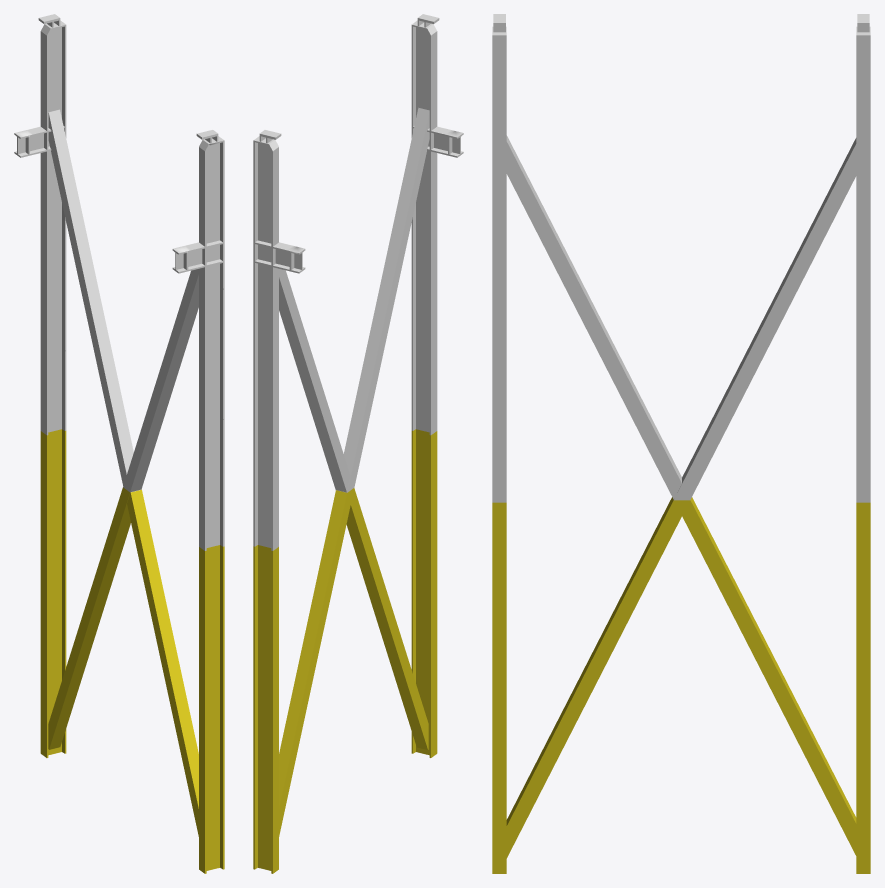
The model's file is truss.fbx.
The picture shows the model from 3 angles, left to right: view 1: azimuth 30°, elevation 25°; view 2: azimuth 150°, elevation 25°; view 3: azimuth 270°, elevation 25°; orthographic projection. The views are drawn at different scales.
Visible parts, largest first — view 1: gantry-side-2.011; view 2: gantry-side-2.011; view 3: gantry-side-2.011.
Part boxes in pixels (left/top/right/bottom): gantry-side-2.011: left=14, top=14, right=224, bottom=873; gantry-side-2.011: left=253, top=14, right=463, bottom=873; gantry-side-2.011: left=492, top=14, right=870, bottom=873.
Bounding box in the file's own units: 82.21 × 1264 × 511.
